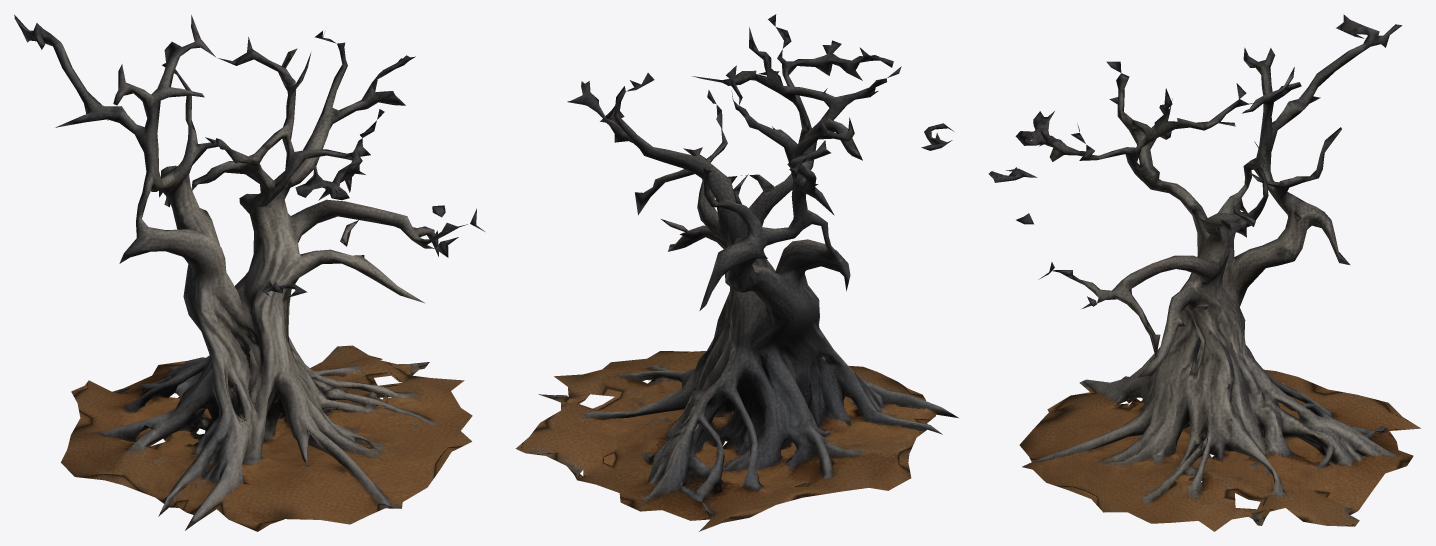
Rendered from deadtree.glb.
3 views of the same model, side by side, from view 1: azimuth 30°, elevation 25°; view 2: azimuth 150°, elevation 25°; view 3: azimuth 270°, elevation 25° (orthographic). The views are drawn at different scales.
Visible parts, largest first — view 1: geometry_0; view 2: geometry_0; view 3: geometry_0.
Part boxes in pixels (left/top/right/bottom): geometry_0: left=14, top=14, right=484, bottom=531; geometry_0: left=515, top=14, right=958, bottom=531; geometry_0: left=988, top=14, right=1420, bottom=531.
Bounding box in the file's own units: 0.8354 × 0.88 × 0.8835.
Materials: 1 (1 with a texture image).
